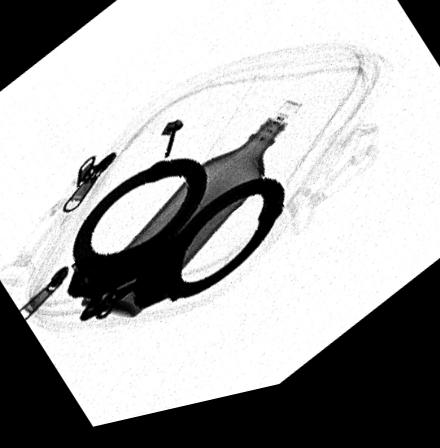HandCuffs: (66, 166, 284, 325)
